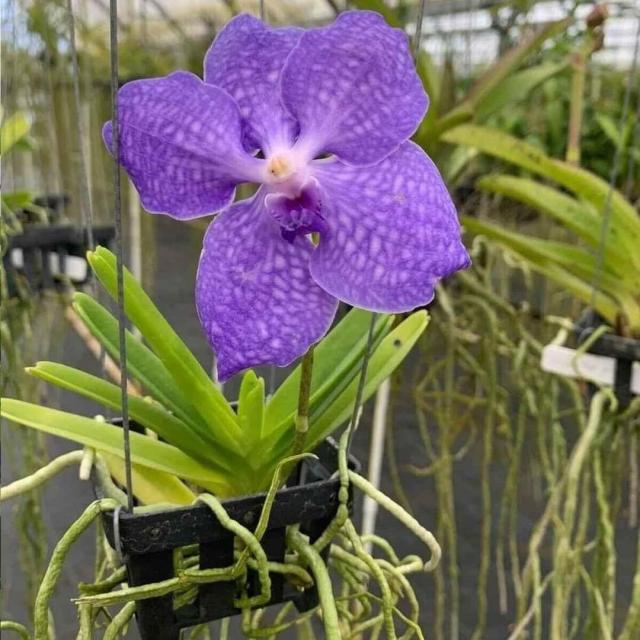flower: (102, 10, 471, 383)
leaf: (123, 267, 241, 444), (129, 396, 259, 483), (129, 395, 249, 474), (2, 399, 125, 460), (361, 311, 429, 404), (311, 308, 372, 399), (126, 330, 190, 414), (30, 362, 120, 410), (305, 372, 359, 449), (79, 293, 119, 360), (266, 366, 300, 432), (236, 370, 265, 442), (87, 246, 117, 299), (373, 314, 393, 344)
plant: (21, 0, 518, 640)
pot: (86, 405, 357, 635)
root: (286, 471, 439, 639), (34, 498, 103, 638), (351, 473, 440, 571), (293, 530, 340, 639), (236, 546, 305, 580)
stem: (203, 495, 297, 611)
